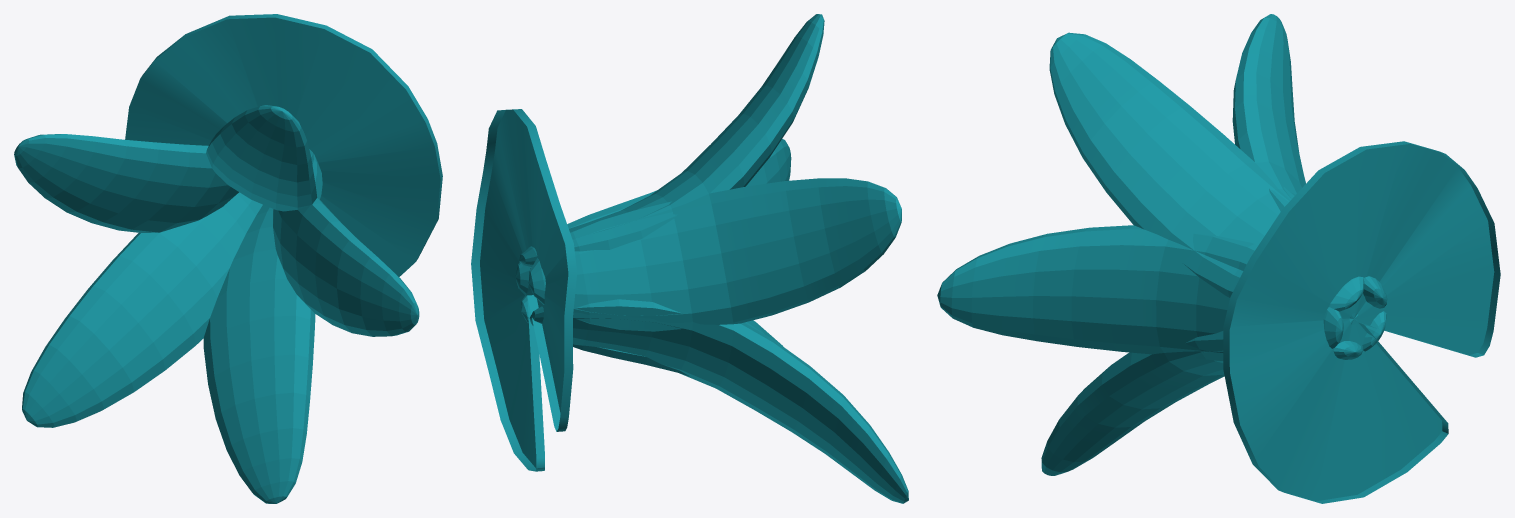
The model's file is VFX_FlowerTrail_Chapter10.fbx.
The picture shows the model from 3 angles, left to right: view 1: azimuth 30°, elevation 25°; view 2: azimuth 150°, elevation 25°; view 3: azimuth 270°, elevation 25°; orthographic projection. The views are drawn at different scales.
Visible parts, largest first — view 1: Flower Head, LilyPad_Dark; view 2: Flower Head, LilyPad_Dark; view 3: Flower Head, LilyPad_Dark.
Part boxes in pixels (x1=…): Flower Head: x1=14, y1=105, x2=419, y2=503; LilyPad_Dark: x1=125, y1=14, x2=442, y2=276; Flower Head: x1=515, y1=14, x2=908, y2=503; LilyPad_Dark: x1=471, y1=109, x2=577, y2=471; Flower Head: x1=937, y1=14, x2=1387, y2=475; LilyPad_Dark: x1=1223, y1=141, x2=1500, y2=503.
Bounding box in the file's own units: 1.39 × 1.28 × 1.46.
